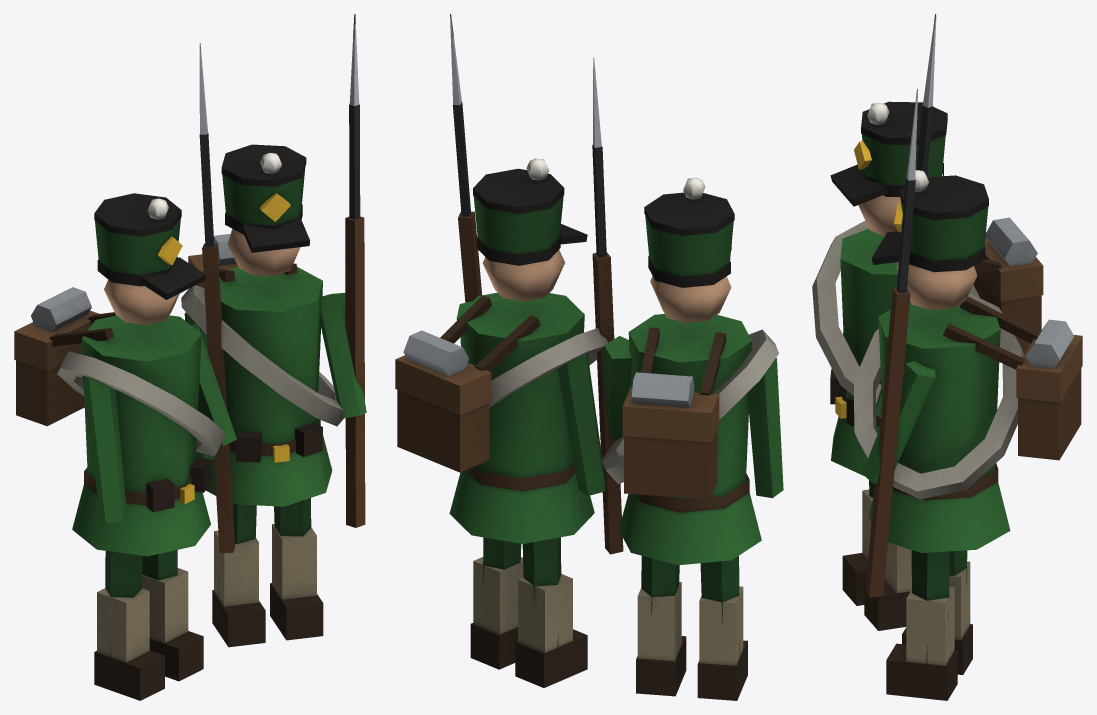
The model's file is sentry_dl5_green.glb.
The picture shows the model from 3 angles, left to right: view 1: azimuth 30°, elevation 25°; view 2: azimuth 150°, elevation 25°; view 3: azimuth 270°, elevation 25°; orthographic projection. The views are drawn at different scales.
Parts seen in each view (by area): view 1: sentry_dl5_green; view 2: sentry_dl5_green; view 3: sentry_dl5_green.
Boxes of the visible parts, box(x1,y1,x2,y2) form: sentry_dl5_green: box(14, 14, 366, 700); sentry_dl5_green: box(395, 14, 783, 700); sentry_dl5_green: box(812, 14, 1082, 700).
Size of the model in its own units: 0.2701 by 0.5225 by 0.2037.
1 material, 1 textured.
